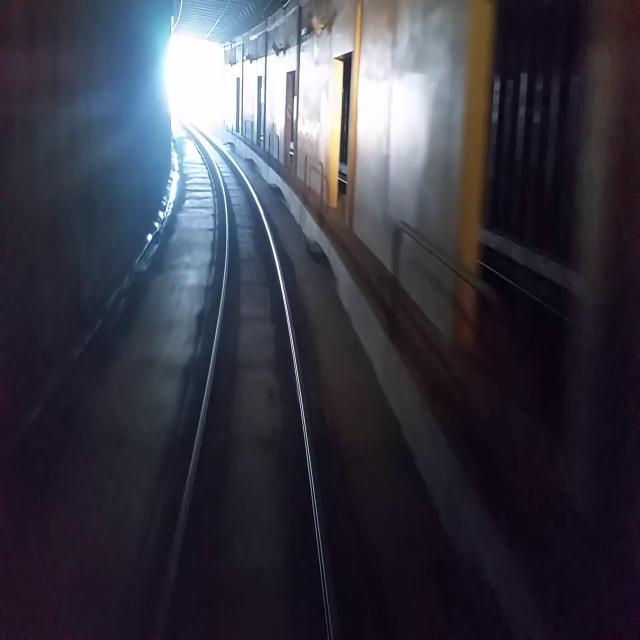rail-track: (160, 113, 328, 639)
